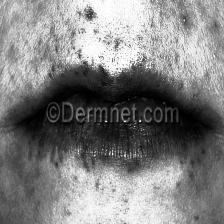Benign Marking or Mole: (43, 39, 147, 83), (77, 0, 97, 23)
